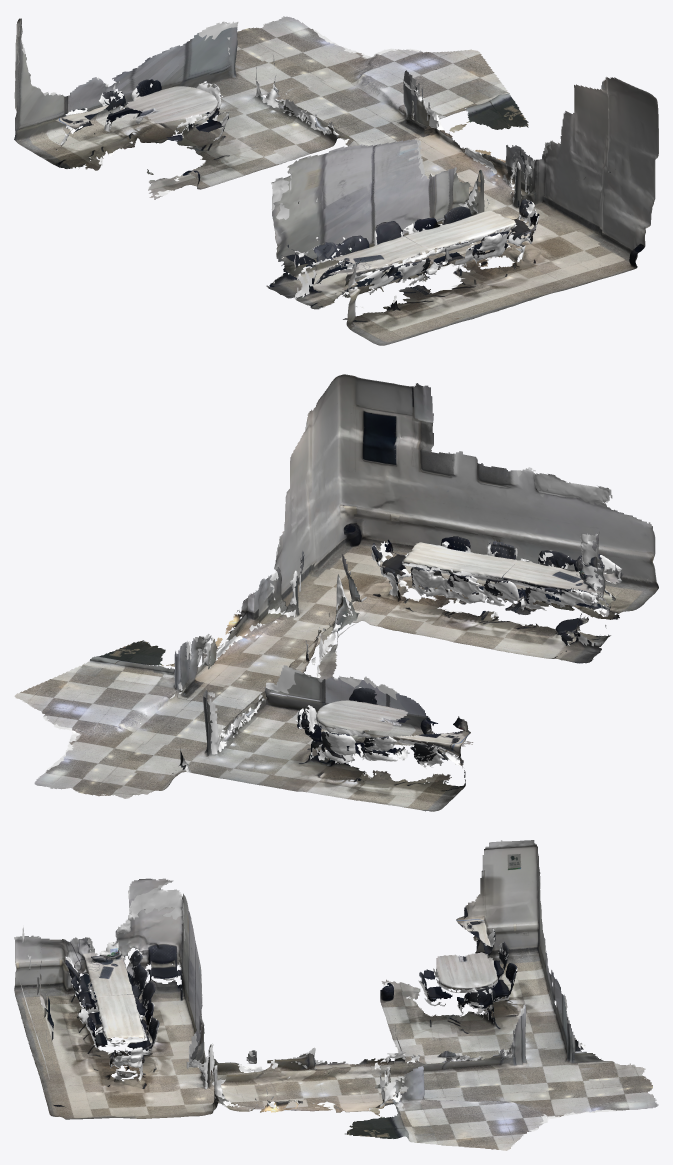
3 renders of one model, top to bottom at view 1: azimuth 30°, elevation 25°; view 2: azimuth 150°, elevation 25°; view 3: azimuth 270°, elevation 25°, orthographic. The views are drawn at different scales.
Parts seen in each view (by area): view 1: texture_2, texture_0, texture_1, texture_8, texture_7, texture_3, object 4, texture_5, texture_4; view 2: texture_8, texture_1, texture_5, texture_2, texture_7, object 4, texture_0, texture_3, texture_4; view 3: texture_1, texture_2, texture_4, texture_5, texture_0, texture_3, texture_8, object 4, texture_7.
Boxes of the visible parts, box(x1,y1,x2,y2) form: texture_2: box(22, 16, 411, 166); texture_0: box(277, 136, 645, 298); texture_1: box(262, 49, 537, 213); texture_8: box(137, 40, 658, 241); texture_7: box(421, 110, 655, 300); texture_3: box(266, 139, 534, 341); object 4: box(21, 21, 608, 308); texture_5: box(313, 215, 555, 345); texture_4: box(14, 18, 206, 170); texture_8: box(63, 374, 479, 780); texture_1: box(14, 567, 361, 745); texture_5: box(394, 463, 658, 619); texture_2: box(34, 687, 448, 798); texture_7: box(250, 434, 485, 638); object 4: box(43, 421, 647, 785); texture_0: box(217, 491, 602, 667); texture_3: box(380, 529, 636, 663); texture_4: box(302, 709, 470, 811); texture_1: box(190, 1045, 544, 1150); texture_2: box(411, 951, 658, 1116); texture_4: box(456, 840, 555, 1019); texture_5: box(14, 935, 142, 1087); texture_0: box(69, 907, 350, 1118); texture_3: box(18, 878, 202, 1067); texture_8: box(37, 943, 617, 1116); object 4: box(22, 846, 622, 1131); texture_7: box(35, 1000, 267, 1119).
Size of the model in its own units: 7.52 by 2.79 by 10.54.
Materials: 9 (8 with a texture image).
